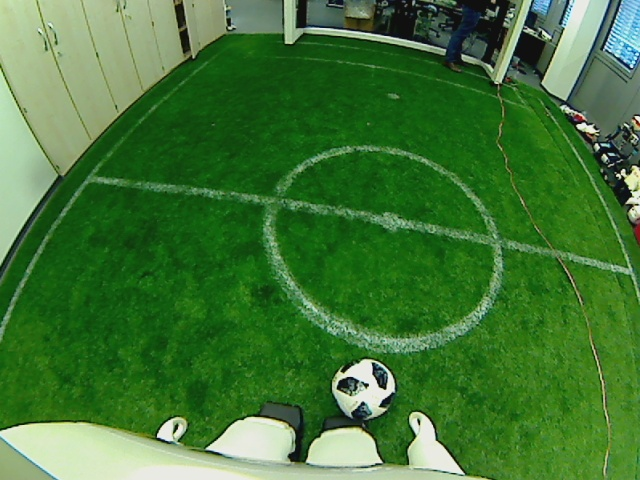ball: (332, 358, 395, 421)
